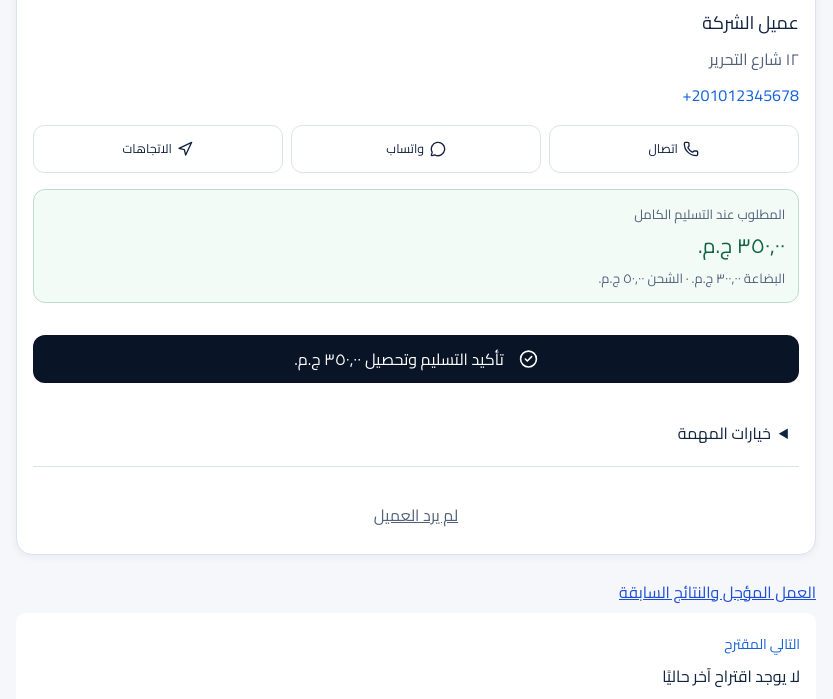
Test: commits the exact envelope and pending row before the online client sends it
(page scrolled)
Click the button "تأكيد التسليم وتحصيل ٣٥٠٫٠٠ ج.م.". click: x=416, y=360
box: [33,336,799,384]
(page scrolled)
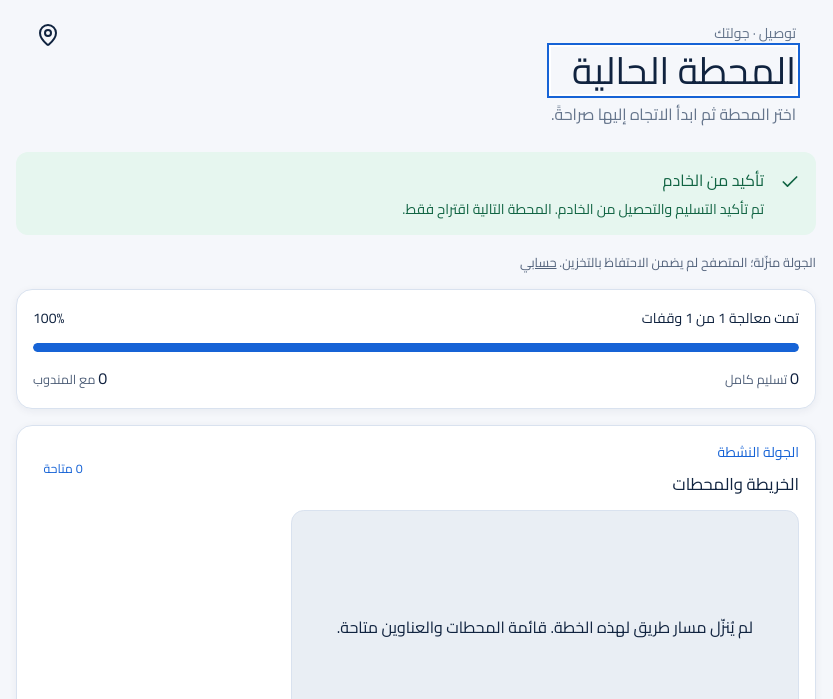
Check: the text "تم تأكيد التسليم والتحصيل من الخادم" is shown, box [402,196,764,222]
